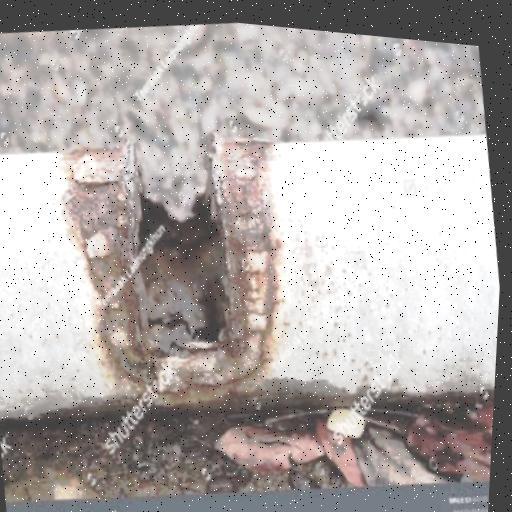corrosion: (49, 121, 302, 423)
